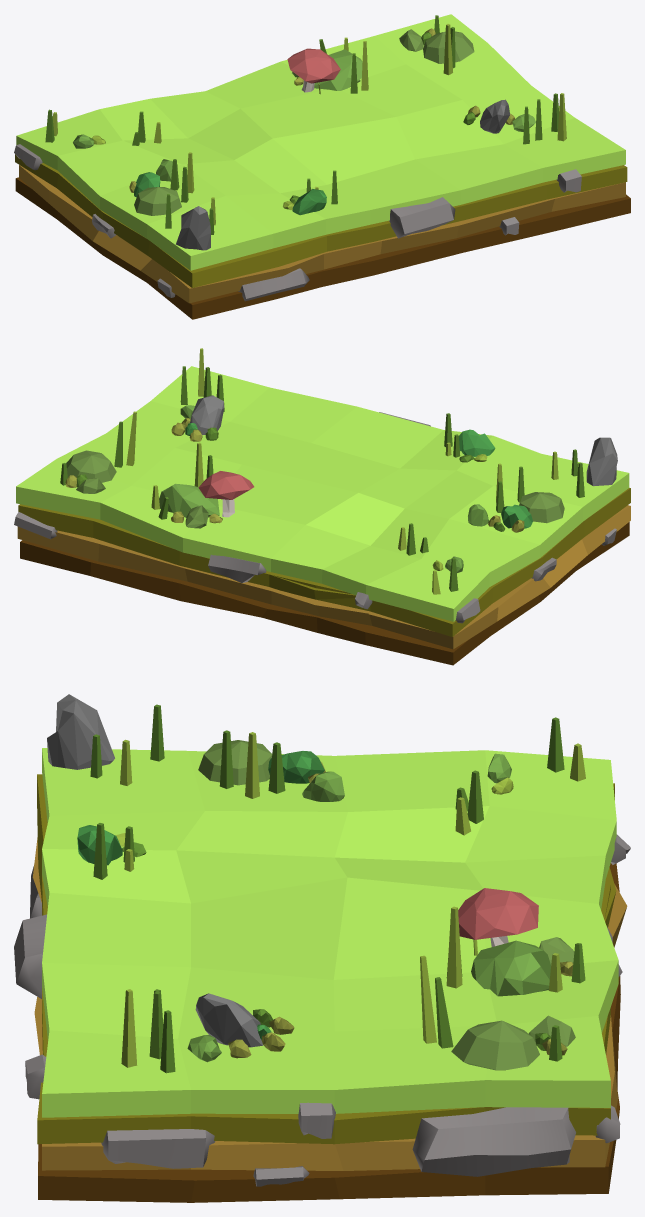
Rendered from terrain2.fbx.
3 renders of one model, top to bottom at view 1: azimuth 30°, elevation 25°; view 2: azimuth 150°, elevation 25°; view 3: azimuth 270°, elevation 25°, orthographic. The views are drawn at different scales.
Parts seen in each view (by area): view 1: polySurface1, polySurface3, polySurface4, polySurface2, pasted__pasted__Stone (×3), pasted__pasted__pasted__pasted__pCylinder1, pasted__polySurface380, pasted__pasted__pasted__pasted__pasted__pCylinder1, pSphere1, pasted__pSphere1, pasted__pasted__pasted__Stone, pasted__pasted__pCylinder1; view 2: polySurface1, polySurface3, polySurface2, polySurface4, pasted__pasted__Stone (×3), pasted__polySurface380, pasted__pSphere1, pSphere1, pCylinder1, pasted__polySurface4, pasted__pasted__pasted__Stone, pasted__pasted__pCylinder1 (+1 smaller); view 3: polySurface1, polySurface2, polySurface4, polySurface3, pasted__pCylinder1 (×2), pasted__pasted__Stone (×3), pasted__pasted__pCylinder1 (×2), pasted__polySurface380, pasted__pSphere1, pasted__pasted__pasted__Stone (×2), pasted__pasted__pasted__pasted__pCylinder1, pSphere1 (+9 smaller).
Part boxes in pixels (box(x1,y1,x2,y2)): polySurface1: box(16, 14, 625, 270); polySurface3: box(19, 165, 625, 303); polySurface4: box(15, 154, 627, 287); polySurface2: box(15, 177, 630, 319); pasted__pasted__Stone (×3): box(176, 49, 509, 250); pasted__pasted__pasted__pasted__pCylinder1: box(389, 197, 455, 238); pasted__polySurface380: box(287, 48, 340, 92); pasted__pasted__pasted__pasted__pasted__pCylinder1: box(238, 268, 309, 301); pSphere1: box(134, 187, 181, 215); pasted__pSphere1: box(423, 31, 474, 63); pasted__pasted__pasted__Stone: box(292, 189, 326, 215); pasted__pasted__pCylinder1: box(556, 169, 581, 192); polySurface1: box(16, 366, 629, 621); polySurface3: box(17, 505, 630, 649); polySurface2: box(20, 522, 629, 665); polySurface4: box(18, 488, 630, 636); pasted__pasted__Stone (×3): box(159, 395, 617, 517); pasted__polySurface380: box(198, 471, 254, 517); pasted__pSphere1: box(66, 450, 116, 482); pSphere1: box(519, 492, 564, 523); pCylinder1: box(208, 554, 266, 582); pasted__polySurface4: box(269, 574, 355, 599); pasted__pasted__pasted__Stone: box(459, 429, 495, 456); pasted__pasted__pCylinder1: box(14, 512, 57, 539); polySurface1: box(42, 748, 618, 1117); polySurface2: box(38, 863, 620, 1202); polySurface4: box(37, 774, 614, 1144); polySurface3: box(32, 837, 627, 1170); pasted__pCylinder1 (×2): box(298, 1102, 575, 1176); pasted__pasted__Stone (×3): box(47, 694, 550, 1047); pasted__pasted__pCylinder1 (×2): box(25, 1054, 215, 1168); pasted__polySurface380: box(458, 888, 538, 946); pasted__pSphere1: box(451, 1020, 539, 1070); pasted__pasted__pasted__Stone (×2): box(77, 771, 344, 865); pasted__pasted__pasted__pasted__pCylinder1: box(14, 914, 46, 998); pSphere1: box(198, 740, 272, 785).
Size of the model in its own units: 37.94 by 9.37 by 27.01.
38 materials, 7 textured.
